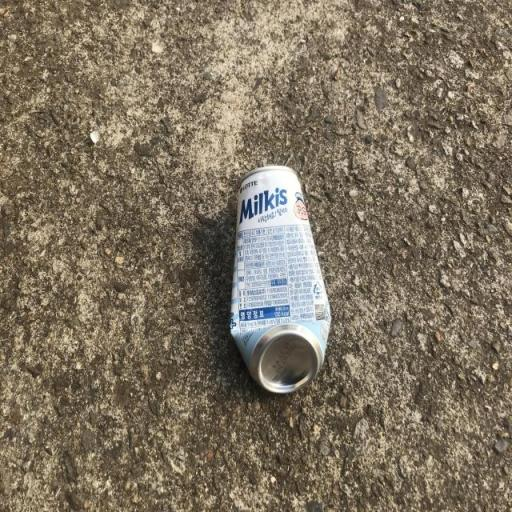metal: (223, 162, 338, 410)
